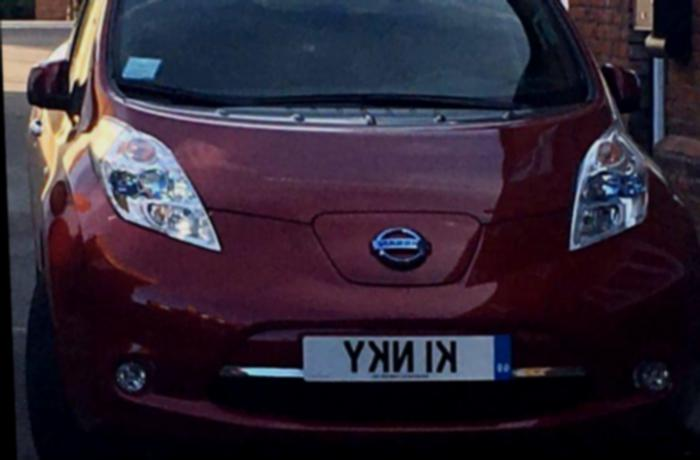License_Plate: (294, 327, 520, 387)
